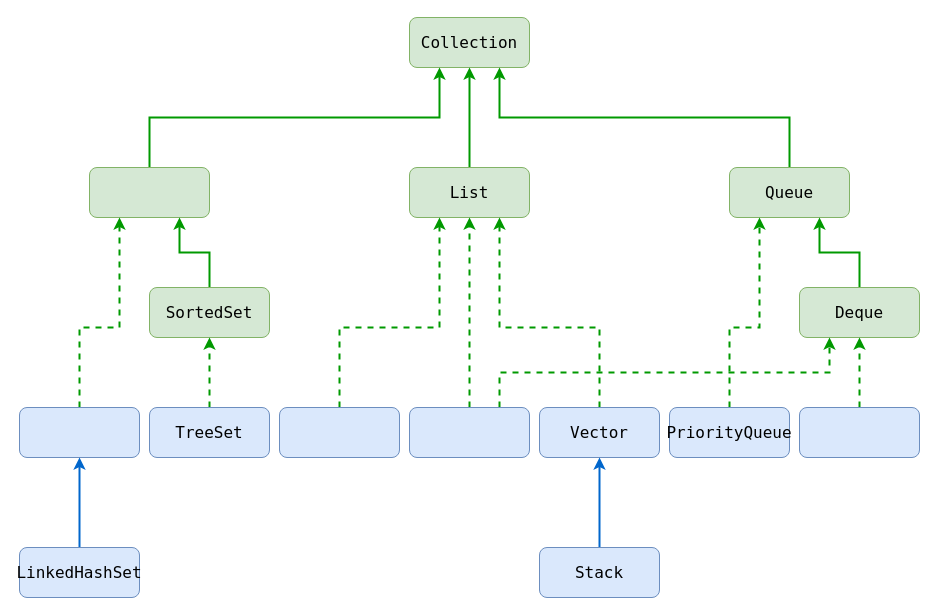
Some shapes in this 937 by 615 pixel diagram are drawn without their labels. Here are the shapes that lost their labels. From the top down, the box of each, then its label:
(88, 166, 210, 218): Set
(18, 406, 140, 458): HashSet
(278, 406, 400, 458): ArrayList
(408, 406, 530, 458): LinkedList
(798, 406, 920, 458): ArrayDeque
